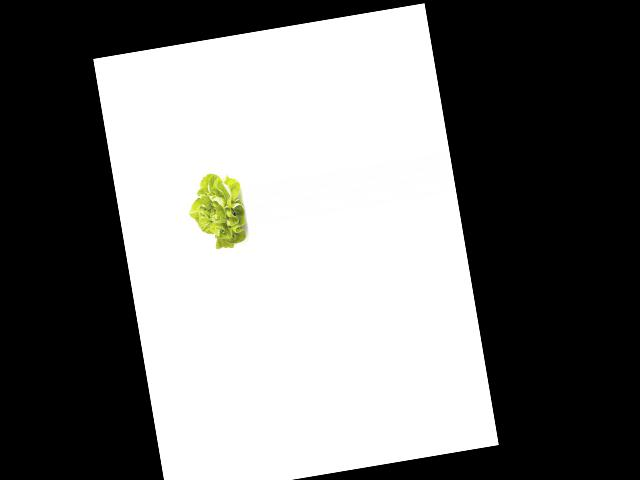lettuce: (183, 166, 251, 254)
